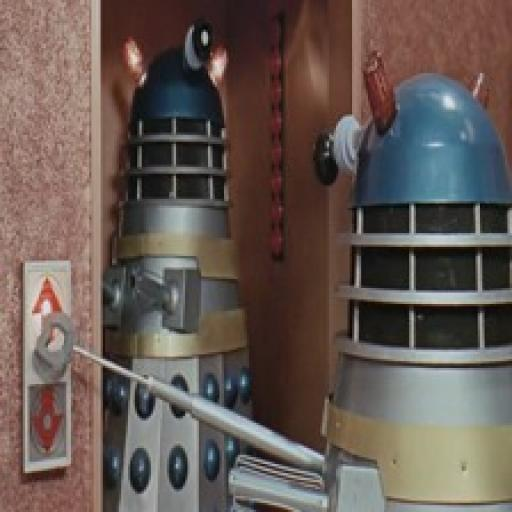dalek: (37, 42, 512, 512), (98, 18, 259, 512)
